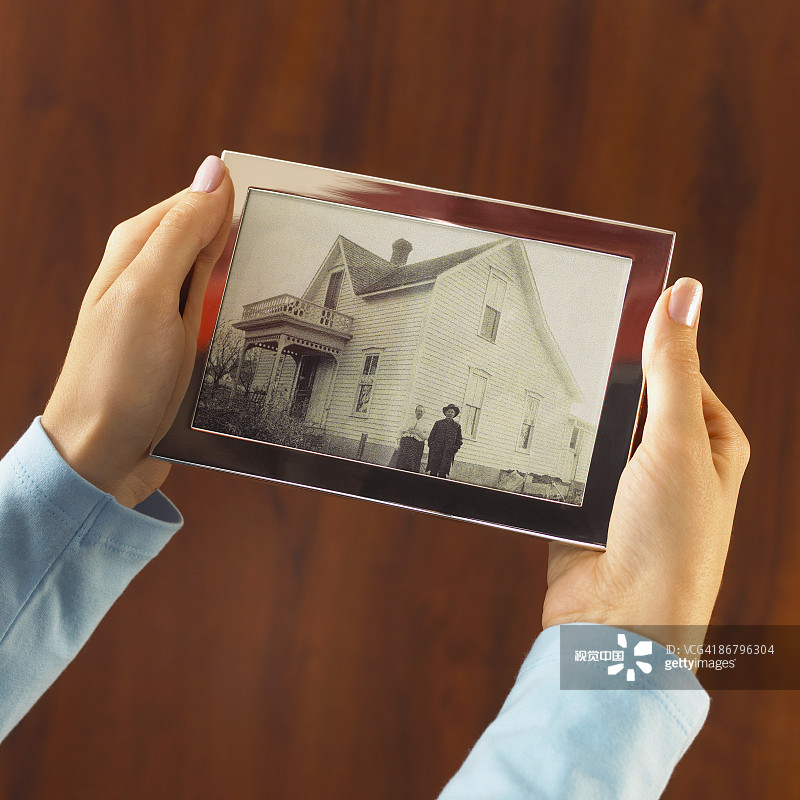no-phone: (521, 267, 765, 672), (18, 133, 272, 503)
